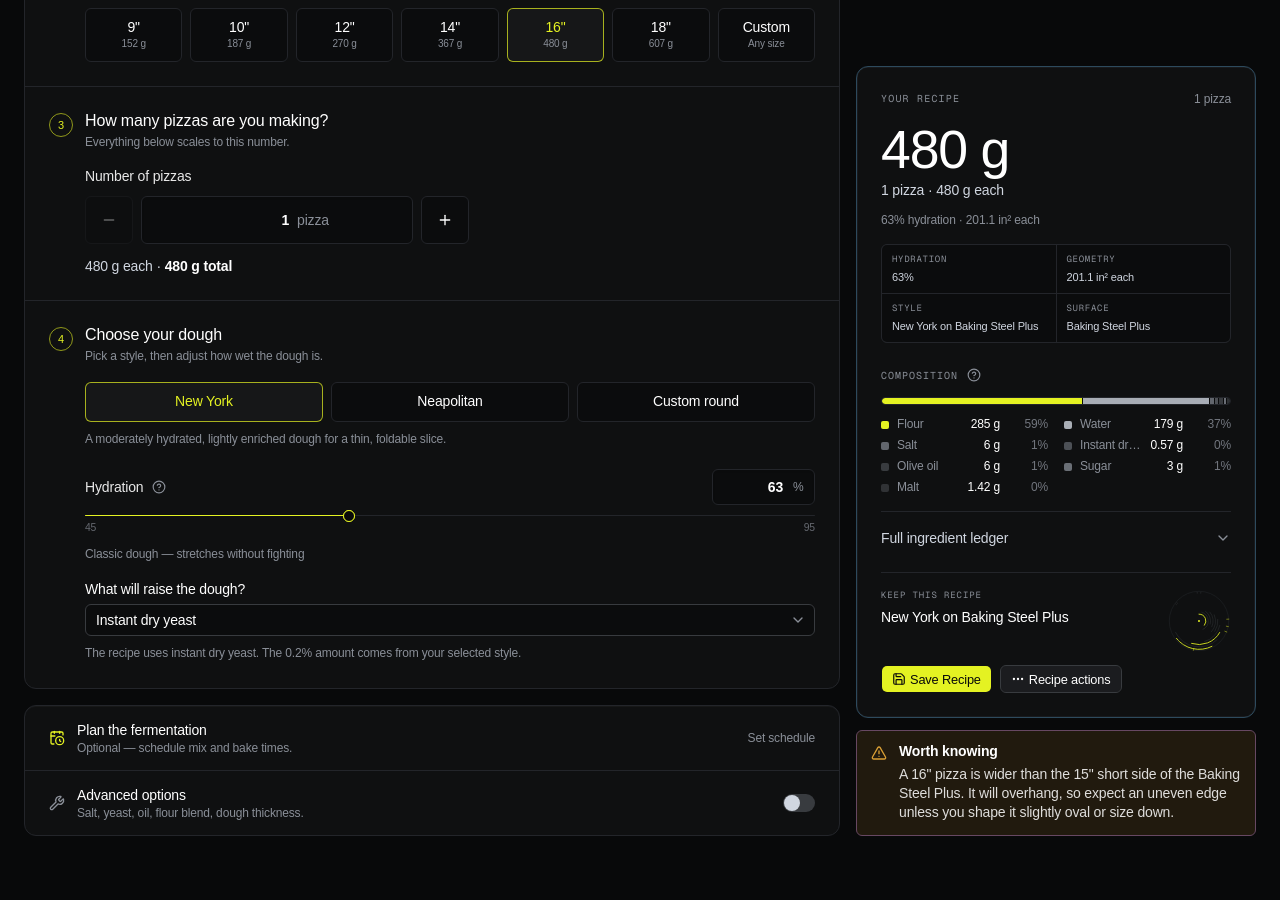
Test: advanced mode › reveals the toolbox sections
(page scrolled)
What coordinates should you click on to do the following:
click the switch named "advanced"
I would click on:
 (799, 803)
Its box is [783,794,815,812].
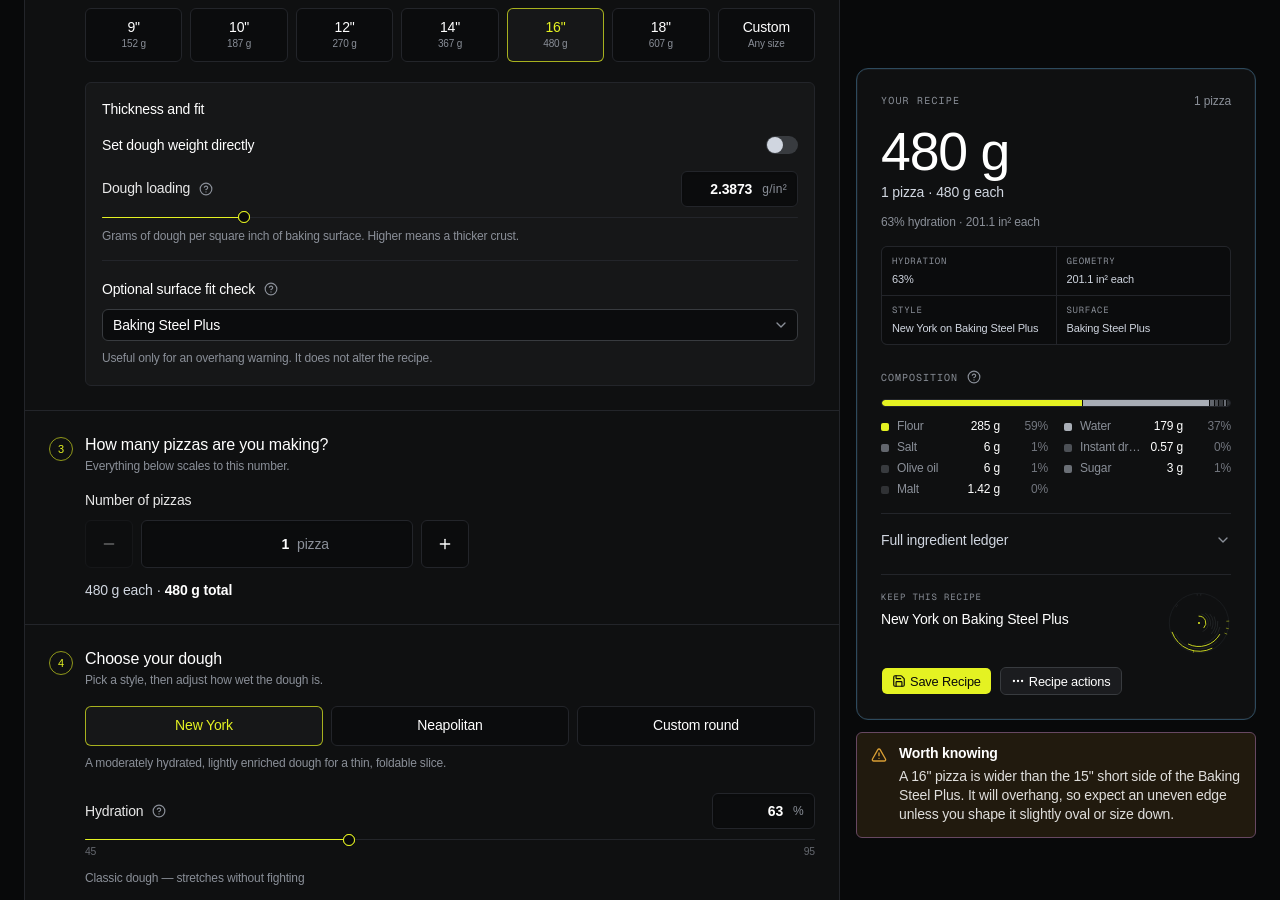
Check: the number field labelled "Dough loading" is shown, box [686,173,758,205]
